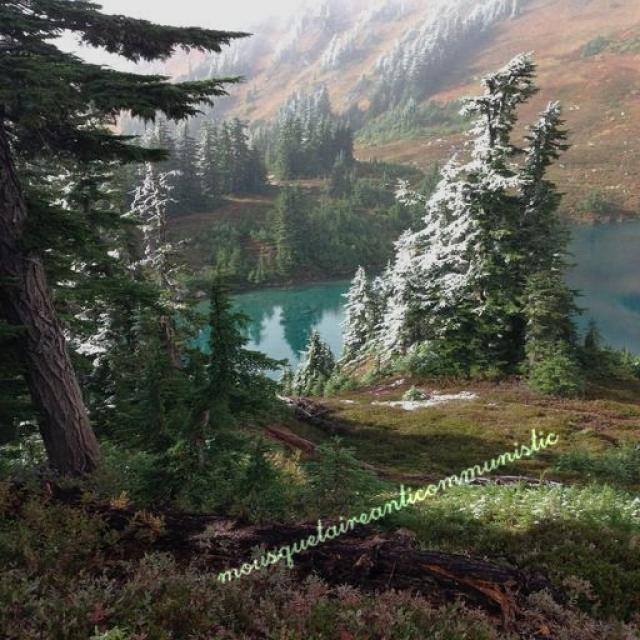watermark: (212, 417, 560, 589)
